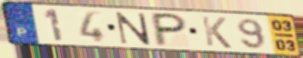1: (43, 8, 66, 43)
4: (77, 10, 108, 44)
9: (236, 18, 268, 50)
K: (199, 15, 234, 50)
N: (114, 11, 153, 47)
P: (151, 11, 188, 48)
